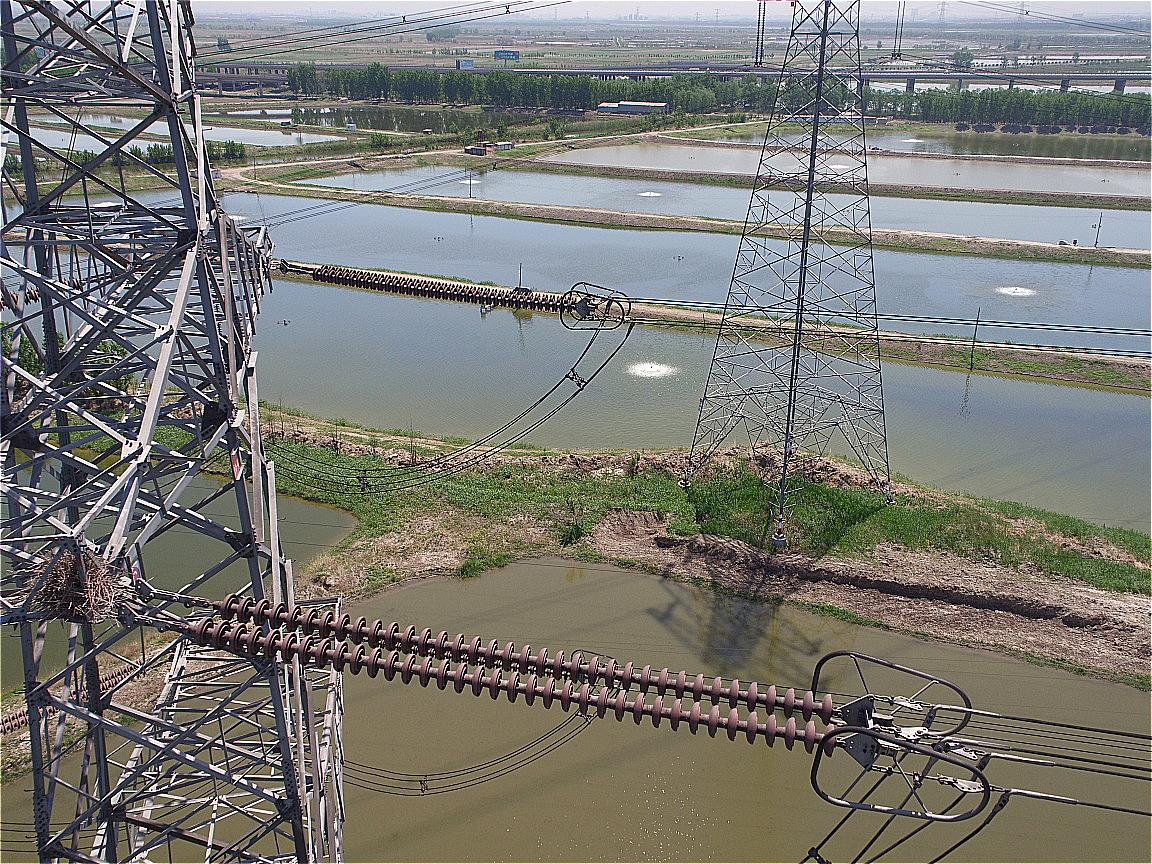insultor1: (196, 594, 839, 756), (312, 261, 580, 311)
